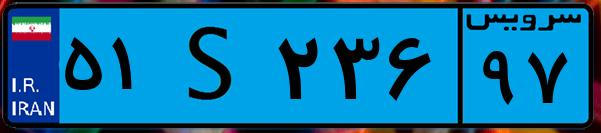1: (110, 28, 158, 98)
2: (270, 28, 330, 110)
3: (330, 28, 385, 110)
5: (57, 26, 110, 100)
6: (385, 28, 445, 110)
7: (525, 38, 570, 115)
9: (475, 38, 525, 113)
S: (158, 12, 270, 120)
